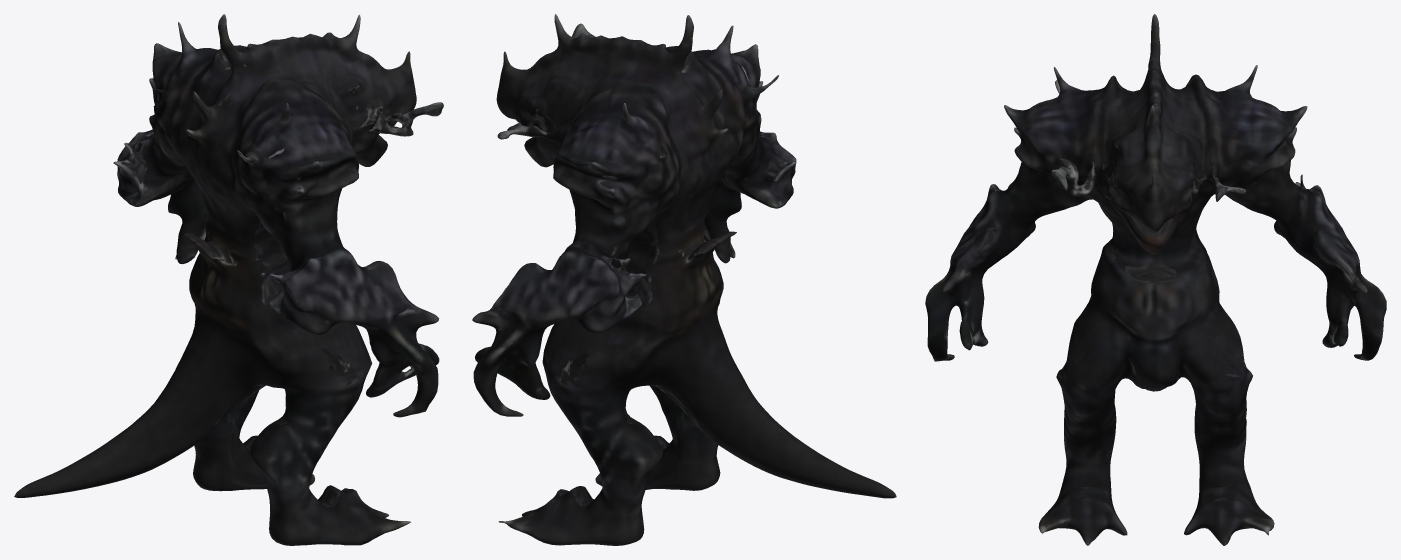
Rendered from 7ce023b5db5a_armored_fantasy_cre.fbx.
3 views of the same model, side by side, from view 1: azimuth 30°, elevation 25°; view 2: azimuth 150°, elevation 25°; view 3: azimuth 270°, elevation 25° (orthographic). The views are drawn at different scales.
Visible parts, largest first — view 1: mesh; view 2: mesh; view 3: mesh.
Part boxes in pixels (x1,y1,x2,y2): mesh: [14, 14, 443, 545]; mesh: [472, 14, 896, 545]; mesh: [925, 14, 1386, 545].
Bounding box in the file's own units: 81.12 × 99.15 × 86.8.
